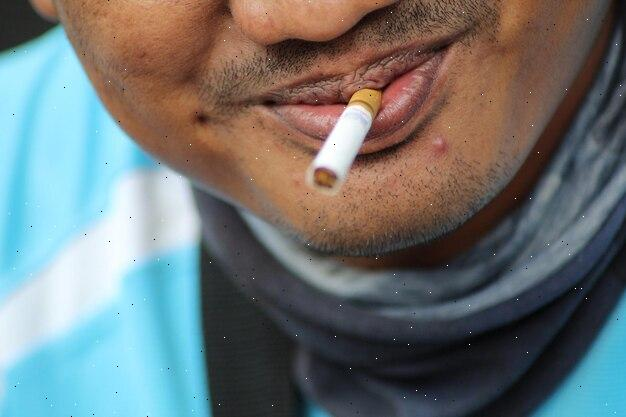cigarette: (306, 89, 381, 194)
